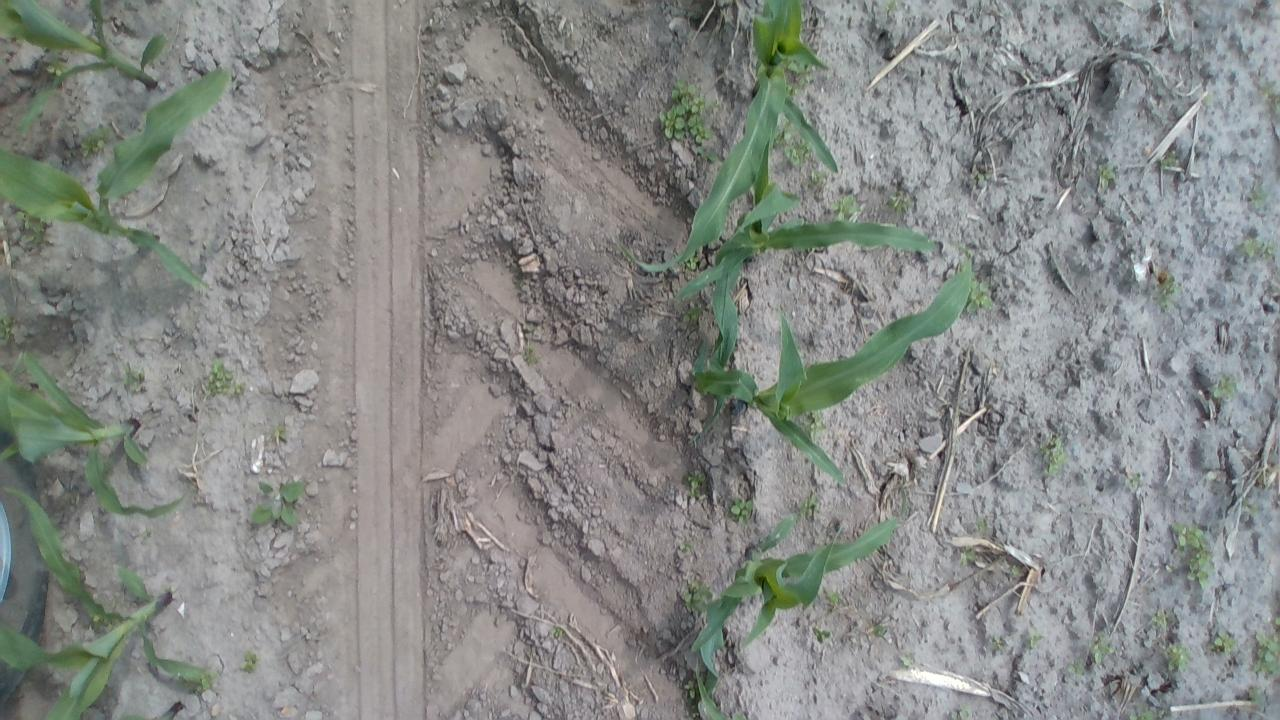Maize: (683, 247, 978, 487), (627, 0, 847, 270), (1, 63, 235, 292), (685, 498, 914, 714), (0, 486, 211, 710), (642, 178, 939, 320), (2, 342, 200, 522), (3, 0, 170, 134)
Weeds: (657, 76, 720, 158), (1170, 518, 1216, 590), (249, 478, 305, 526), (200, 358, 246, 398), (1038, 431, 1070, 480), (8, 211, 52, 246), (777, 122, 809, 170), (1249, 628, 1277, 678), (679, 574, 712, 614), (1150, 268, 1181, 310), (80, 124, 116, 156), (965, 279, 996, 314), (1238, 232, 1276, 260), (1207, 372, 1240, 404), (728, 494, 761, 526), (828, 190, 864, 219), (1088, 630, 1116, 666), (1164, 638, 1193, 672), (177, 671, 218, 695), (786, 60, 814, 95), (1208, 627, 1238, 657), (682, 467, 708, 501), (118, 364, 149, 392), (1124, 703, 1178, 719), (799, 408, 828, 437), (237, 647, 264, 676), (885, 188, 915, 214), (518, 340, 543, 369), (1094, 160, 1118, 190), (1244, 182, 1268, 209), (1257, 74, 1277, 106), (796, 491, 820, 517), (1150, 606, 1174, 632), (1159, 148, 1182, 175), (0, 314, 20, 344), (1240, 494, 1262, 521), (684, 676, 703, 706), (971, 516, 996, 538), (968, 164, 994, 185), (682, 300, 703, 326), (810, 624, 836, 644), (1120, 470, 1144, 491), (956, 546, 978, 568), (1065, 659, 1088, 680), (824, 590, 848, 610), (1024, 628, 1044, 651), (807, 167, 827, 190), (676, 535, 698, 555), (549, 625, 569, 646), (987, 634, 1007, 654), (1246, 688, 1264, 710), (946, 704, 974, 718), (270, 423, 292, 440), (684, 250, 700, 273), (138, 524, 156, 544), (870, 622, 891, 638), (898, 650, 915, 669), (880, 1, 900, 16), (732, 710, 749, 720)
